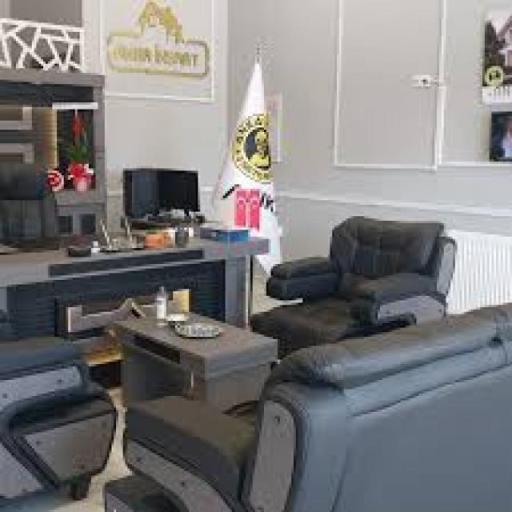sofa: (272, 211, 480, 351)
